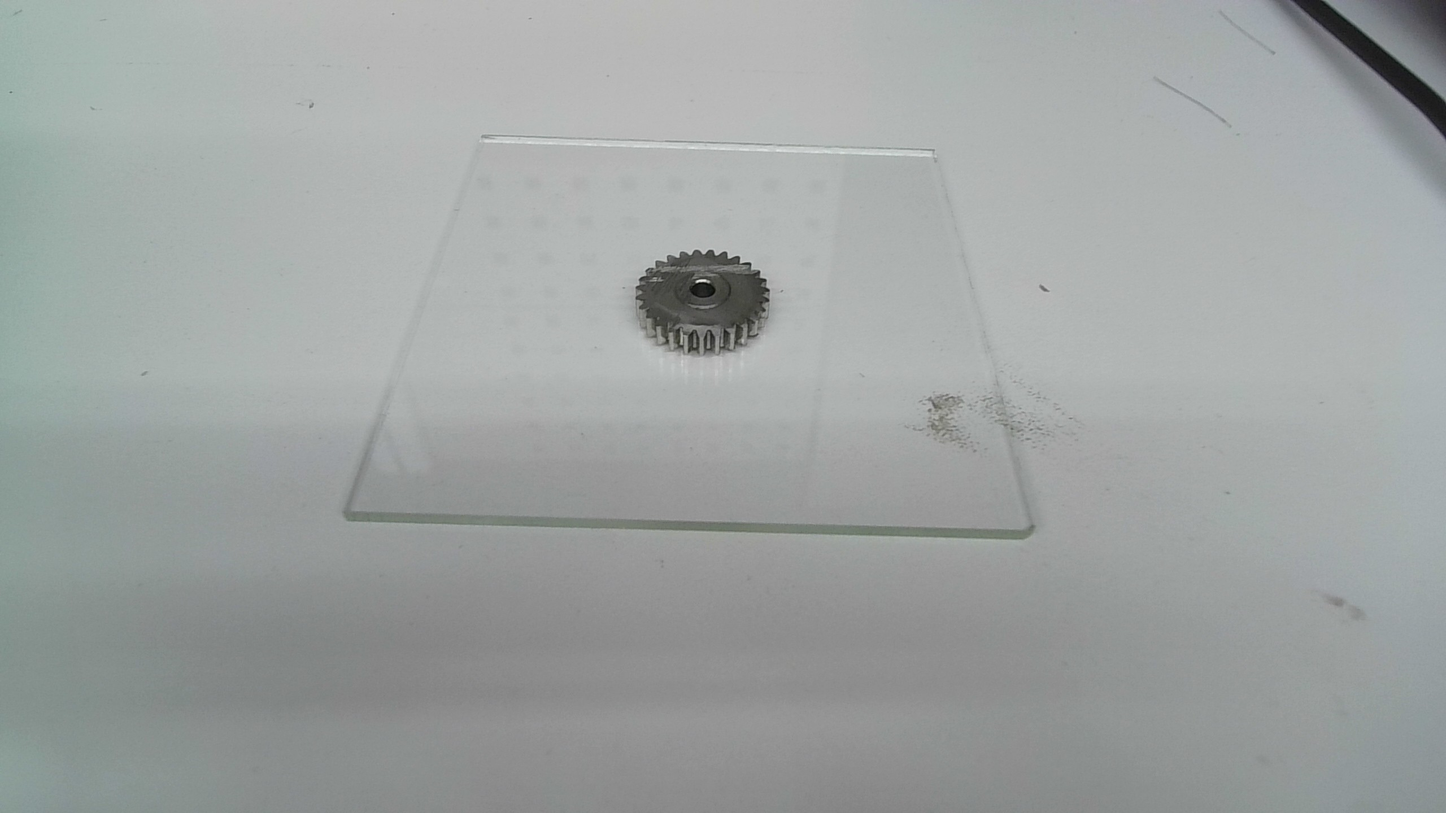gear: (634, 246, 773, 359)
